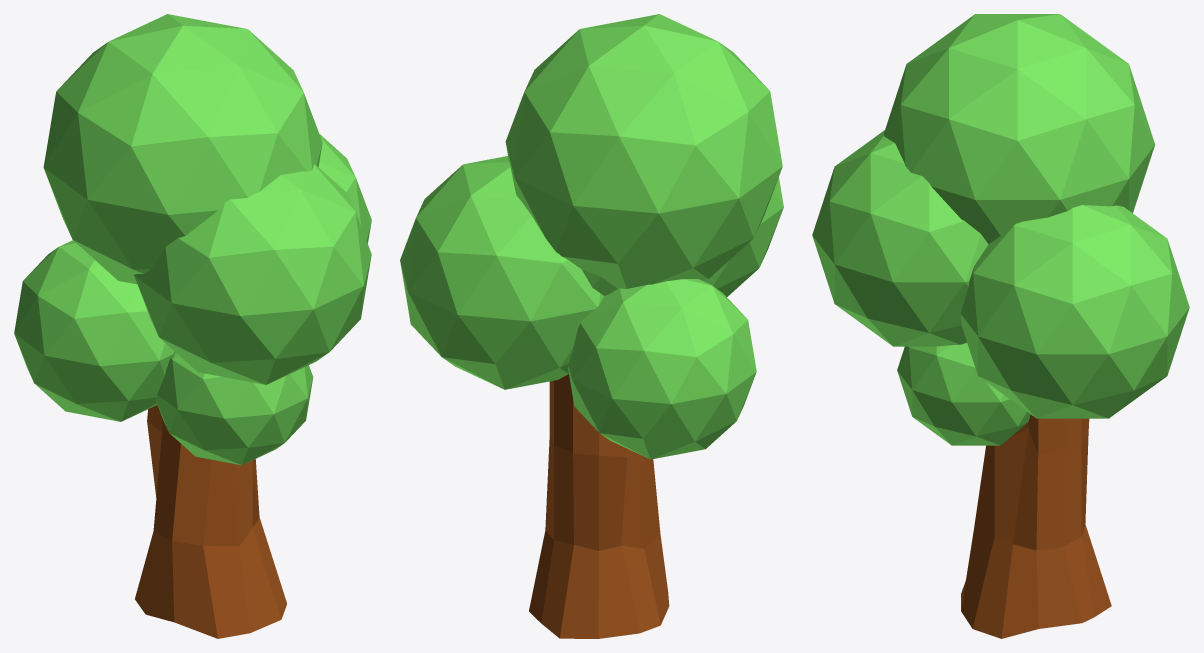
File: Tree 2.fbx
The picture shows the model from 3 angles, left to right: view 1: azimuth 30°, elevation 25°; view 2: azimuth 150°, elevation 25°; view 3: azimuth 270°, elevation 25°; orthographic projection. The views are drawn at different scales.
Parts seen in each view (by area): view 1: Icosphere, Icosphere.001, Cylinder, Icosphere.003, Icosphere.005, Icosphere.002; view 2: Icosphere, Icosphere.002, Icosphere.003, Cylinder, Icosphere.001; view 3: Icosphere, Icosphere.002, Icosphere.001, Cylinder, Icosphere.005.
Boxes of the visible parts, x1,y1,x2,y2 form: Icosphere: (43, 14, 322, 284); Icosphere.001: (134, 164, 371, 384); Cylinder: (135, 405, 286, 638); Icosphere.003: (14, 240, 174, 421); Icosphere.005: (155, 351, 313, 465); Icosphere.002: (318, 134, 371, 243); Icosphere: (505, 14, 782, 288); Icosphere.002: (400, 156, 604, 389); Icosphere.003: (568, 279, 756, 459); Cylinder: (529, 374, 669, 638); Icosphere.001: (701, 177, 783, 296); Icosphere: (884, 14, 1155, 244); Icosphere.002: (960, 205, 1189, 418); Icosphere.001: (812, 130, 988, 346); Cylinder: (961, 414, 1111, 638); Icosphere.005: (897, 343, 1030, 445).
Size of the model in its own units: 318 by 557 by 332.
